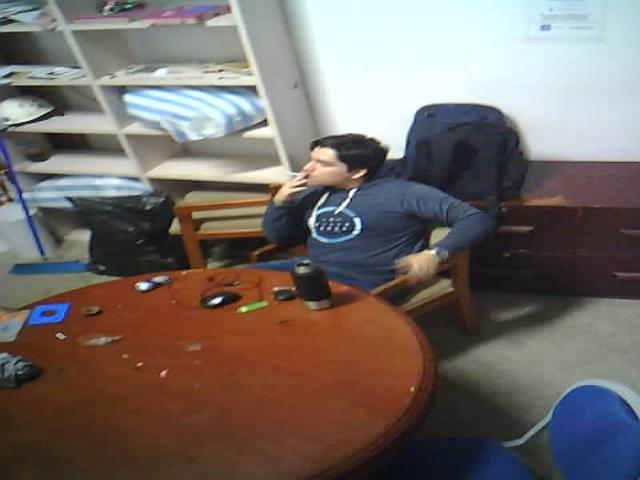person: (242, 100, 495, 319)
